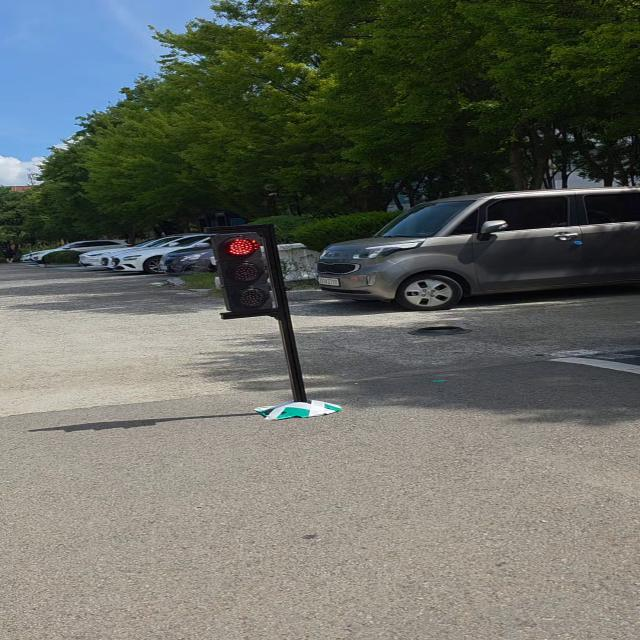red: (203, 224, 278, 318)
